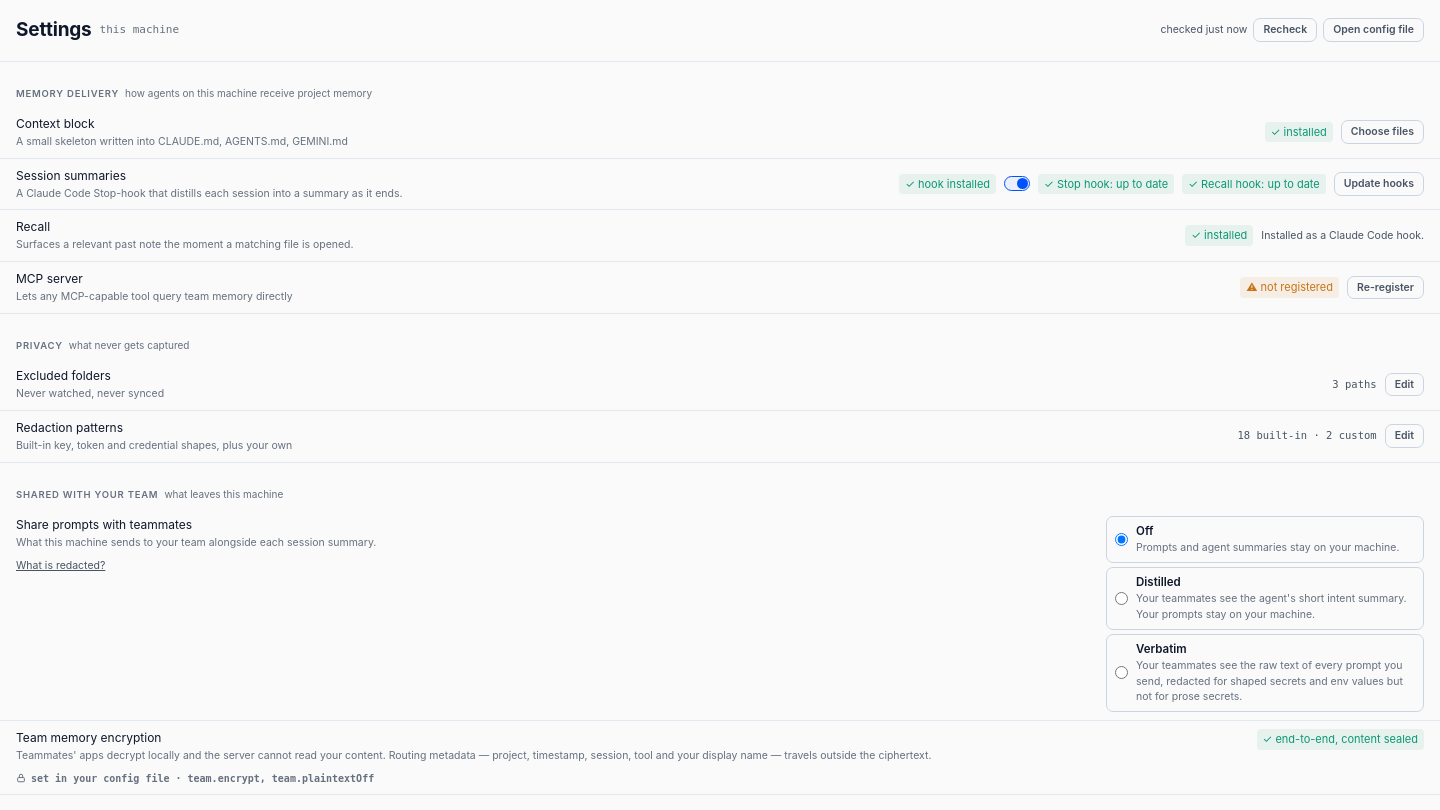
Test: SharePromptsControl › names the row that failed when the write is refused, and rolls the selection back
Click the radio button labelled "Verbatim" at (1122, 673), box [1115,666,1128,679]
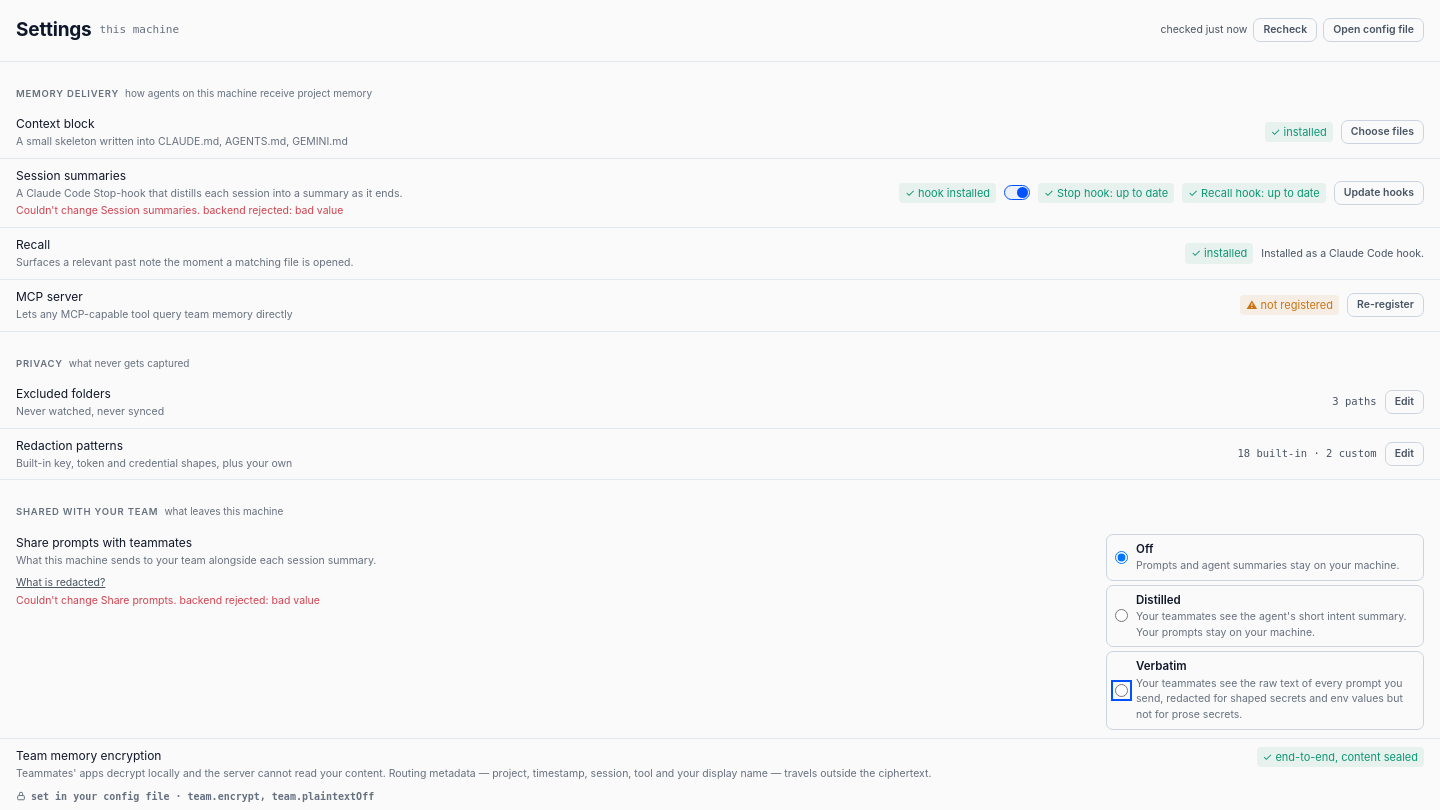
Expected: the radio button labelled "Off Prompts and agent summaries stay on your machine." is checked, [1115,550,1128,564]
Expected: the text "Couldn't change Share prompts. backend rejected: bad value" is shown, [16,594,320,607]
